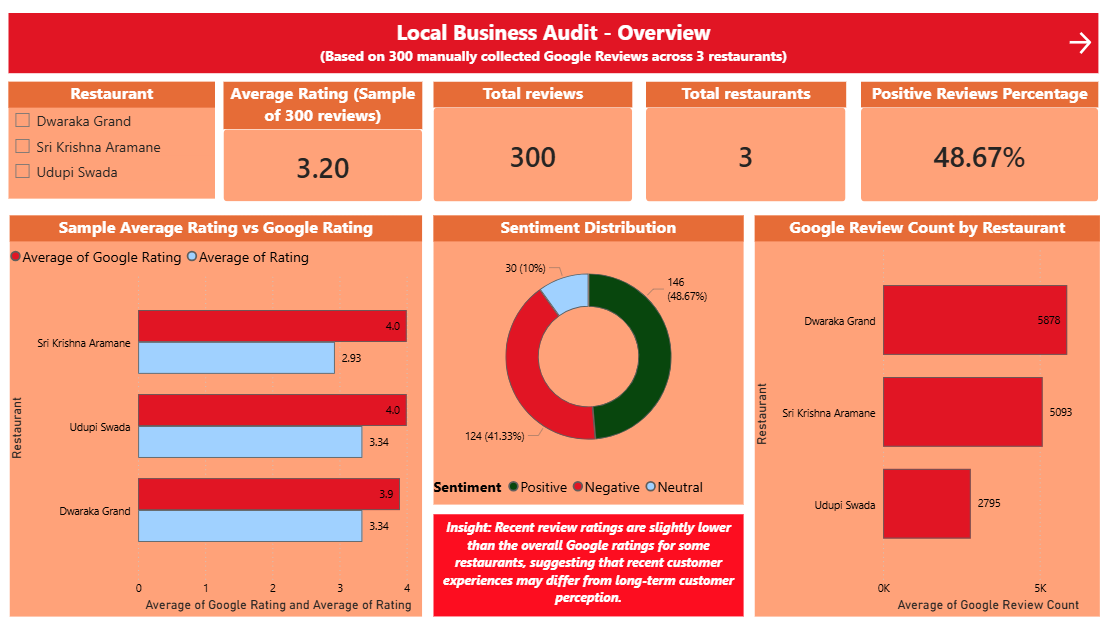

The dashboard page shown, as its layout file describes it:
{"tool":"powerbi","page":{"name":"Page 1","canvas":[1280,720],"ordinal":0},"visuals":[{"type":"cardVisual","title":"Average Rating (Sample of 300 reviews)","fields":{"Data":["Review.Overall_rating"]},"box":[260.5,95.4,227.4,141.8],"z":0},{"type":"cardVisual","title":"Total reviews","fields":{"Data":["Count(Review.Review id)"]},"box":[500.1,95.4,227.4,141.8],"z":1000},{"type":"cardVisual","title":"Total restaurants","fields":{"Data":["Count(Review.Restaurant)"]},"box":[743.5,95.4,228.7,141.8],"z":2000},{"type":"cardVisual","title":"Positive Reviews Percentage","fields":{"Data":["Review.Positive_review_percentage"]},"box":[989.3,95.4,271.5,141.8],"z":3000},{"type":"slicer","title":"Restaurant","fields":{"Values":["Review.Restaurant"]},"box":[14.7,95.4,236,133.3],"z":4000},{"type":"donutChart","title":"Sentiment Distribution","fields":{"Category":["Review.Sentiment"],"Y":["Count(Review.Review id)"]},"box":[500,248.6,354.3,330],"z":5000},{"type":"textbox","box":[14.3,17.1,1245.7,68.6],"z":6000},{"type":"clusteredBarChart","title":"Google Review Count by Restaurant","fields":{"Y":["Avg(Restaurant_GoogleReviews.Google Review Count)"],"Category":["Restaurant_GoogleReviews.Restaurant"]},"box":[867.1,248.6,394.3,458.6],"z":7000},{"type":"clusteredBarChart","title":"Sample Average Rating vs Google Rating","fields":{"Category":["Restaurant_GoogleRating.Restaurant"],"Y":["Avg(Restaurant_GoogleRating.Google Rating)","Avg(Review.Rating)"]},"box":[15.7,248.6,471.4,458.6],"z":8000},{"type":"textbox","box":[500,590,354.3,117.1],"z":9000},{"type":"actionButton","box":[1221.4,34.3,58.6,34.3],"z":10000}]}

Visuals, with their boxes in screenshot pixels (x1, y1, x2, y2), scaled from the page's 1280x720 canvas onto the 1110x623 screenshot:
"Average Rating (Sample of 300 reviews)" cardVisual: pyautogui.locateOnScreen(226, 83, 423, 205)
"Total reviews" cardVisual: pyautogui.locateOnScreen(434, 83, 631, 205)
"Total restaurants" cardVisual: pyautogui.locateOnScreen(645, 83, 843, 205)
"Positive Reviews Percentage" cardVisual: pyautogui.locateOnScreen(858, 83, 1093, 205)
"Restaurant" slicer: pyautogui.locateOnScreen(13, 83, 217, 198)
"Sentiment Distribution" donutChart: pyautogui.locateOnScreen(434, 215, 741, 501)
textbox: pyautogui.locateOnScreen(12, 15, 1093, 74)
"Google Review Count by Restaurant" clusteredBarChart: pyautogui.locateOnScreen(752, 215, 1094, 612)
"Sample Average Rating vs Google Rating" clusteredBarChart: pyautogui.locateOnScreen(14, 215, 422, 612)
textbox: pyautogui.locateOnScreen(434, 511, 741, 612)
actionButton: pyautogui.locateOnScreen(1059, 30, 1109, 59)
